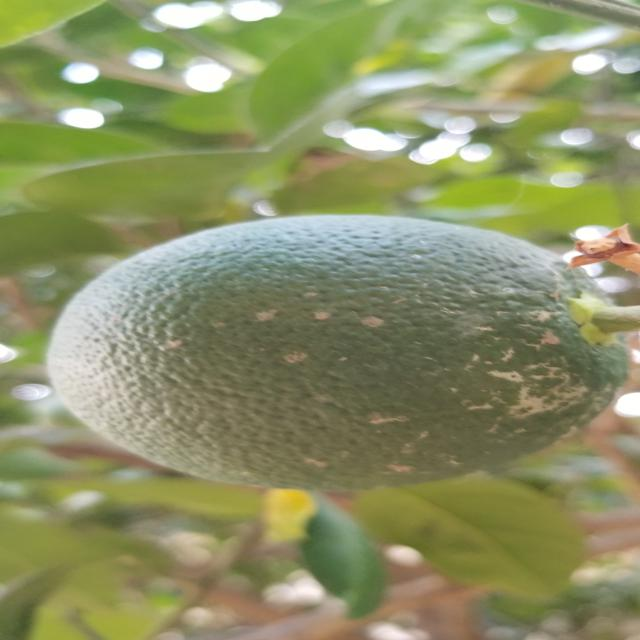Unripe: (39, 214, 627, 497)
